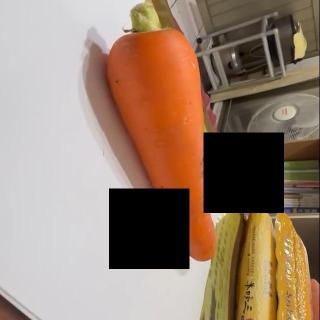carrot: (104, 2, 220, 262)
